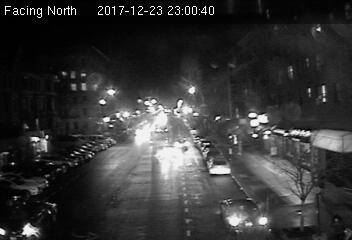car: (219, 195, 269, 235), (207, 156, 230, 175), (173, 137, 189, 150)
